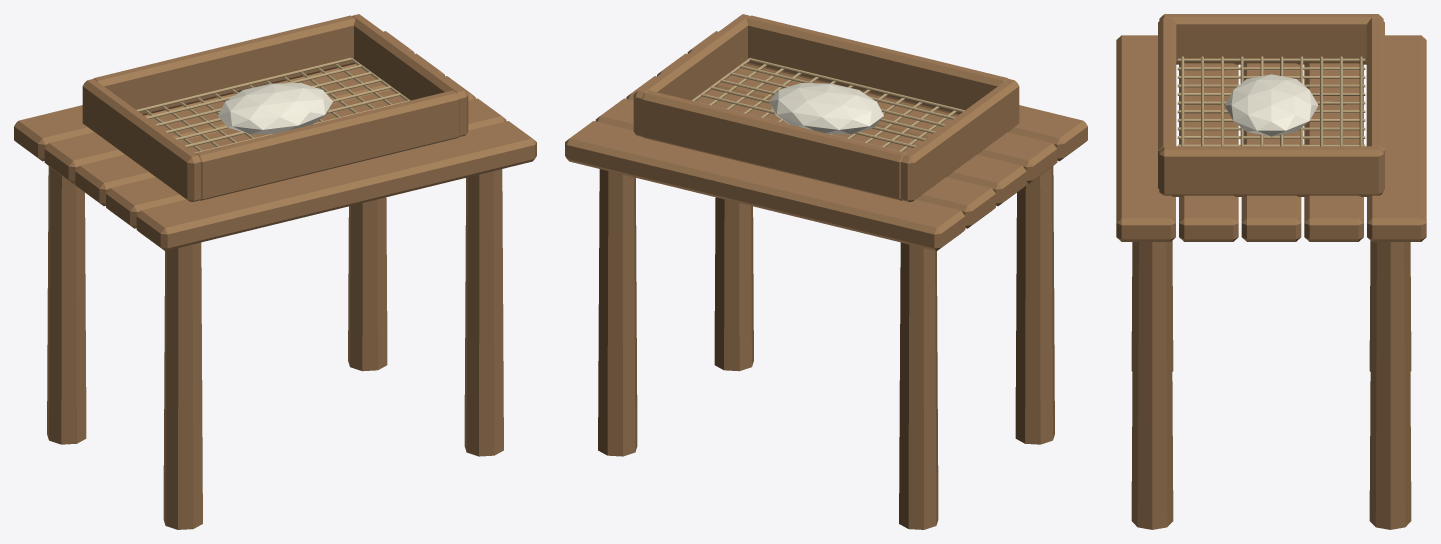
The picture shows the model from 3 angles, left to right: view 1: azimuth 30°, elevation 25°; view 2: azimuth 150°, elevation 25°; view 3: azimuth 270°, elevation 25°; orthographic projection. The views are drawn at different scales.
Visible parts, largest first — view 1: CE-028 Salt-grading sieve worktable batched; view 2: CE-028 Salt-grading sieve worktable batched; view 3: CE-028 Salt-grading sieve worktable batched.
Part boxes in pixels (bbox=[...]): CE-028 Salt-grading sieve worktable batched: bbox=[14, 14, 536, 529]; CE-028 Salt-grading sieve worktable batched: bbox=[565, 14, 1087, 529]; CE-028 Salt-grading sieve worktable batched: bbox=[1116, 14, 1426, 529].
Bounding box in the file's own units: 0.85 × 0.77 × 0.594.
